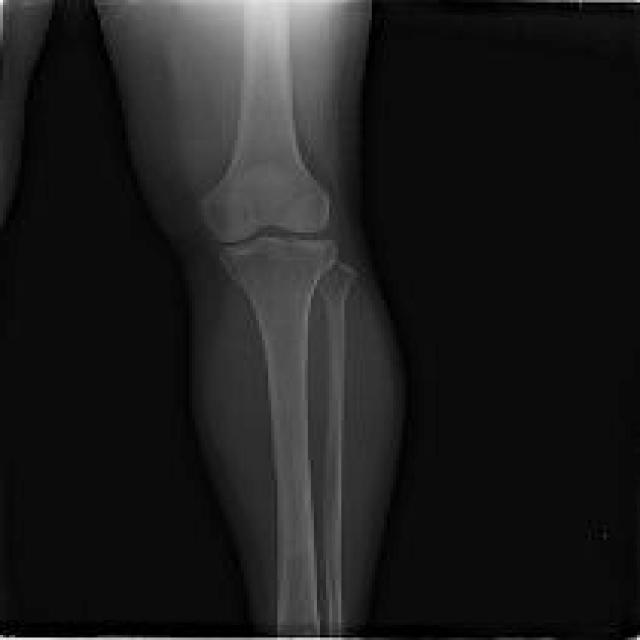normal: (221, 235, 336, 637), (202, 0, 328, 242), (314, 258, 360, 637)
